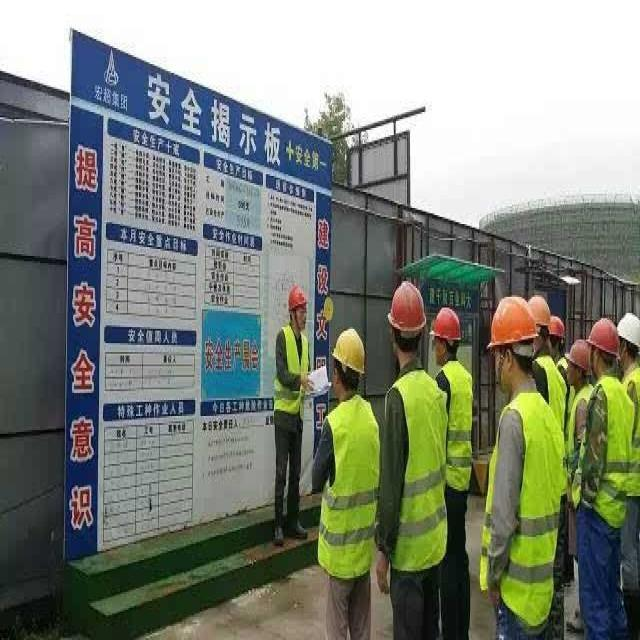helmet: (486, 394, 539, 526), (385, 376, 429, 488), (330, 434, 368, 534), (428, 405, 465, 488), (590, 419, 623, 509), (614, 412, 640, 507), (525, 388, 552, 471), (286, 376, 310, 443), (569, 450, 592, 518), (545, 417, 569, 475)
vest: (390, 503, 454, 640), (492, 541, 573, 640), (586, 511, 640, 640), (320, 535, 380, 640), (435, 488, 473, 640), (271, 435, 313, 548), (534, 478, 571, 602)
